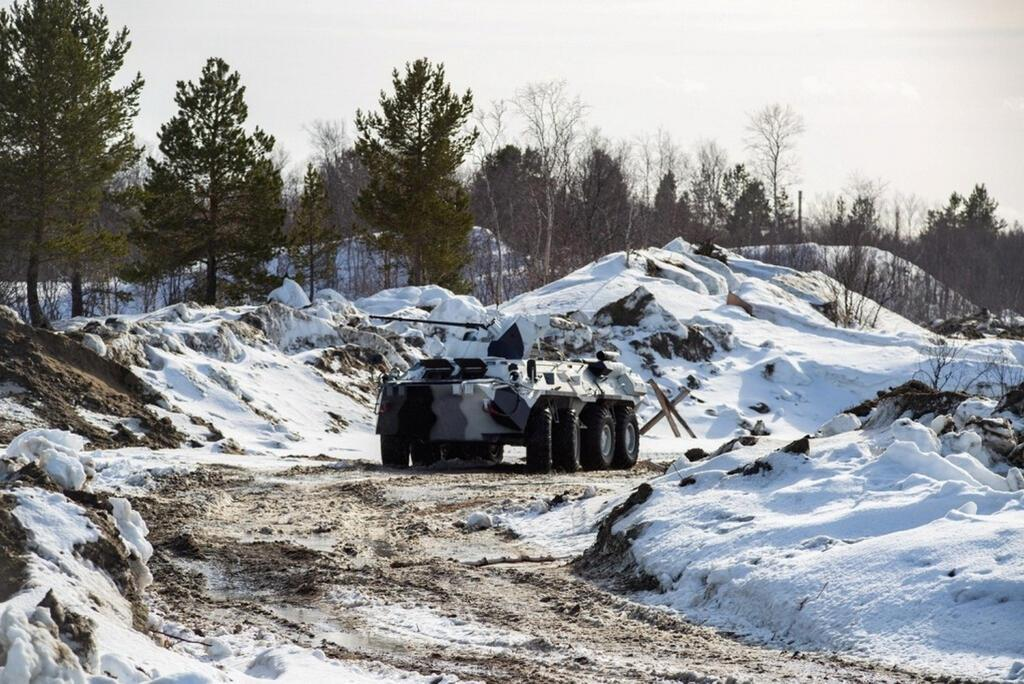tank: (367, 313, 650, 474)
